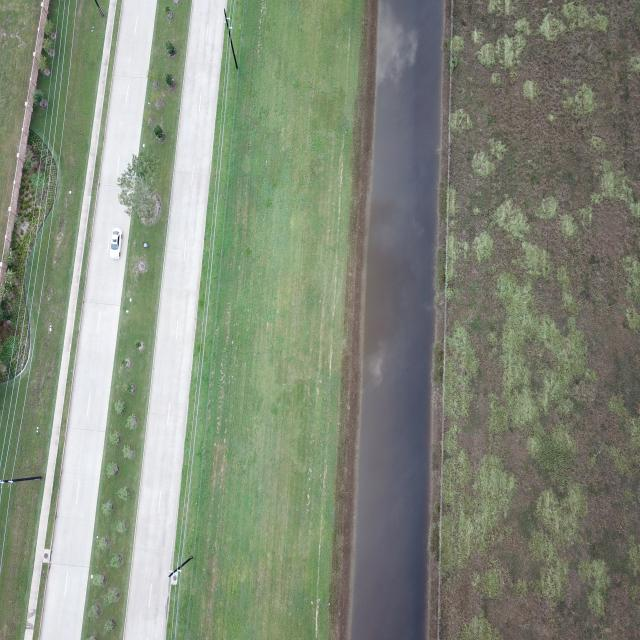fire: (351, 0, 444, 640)
